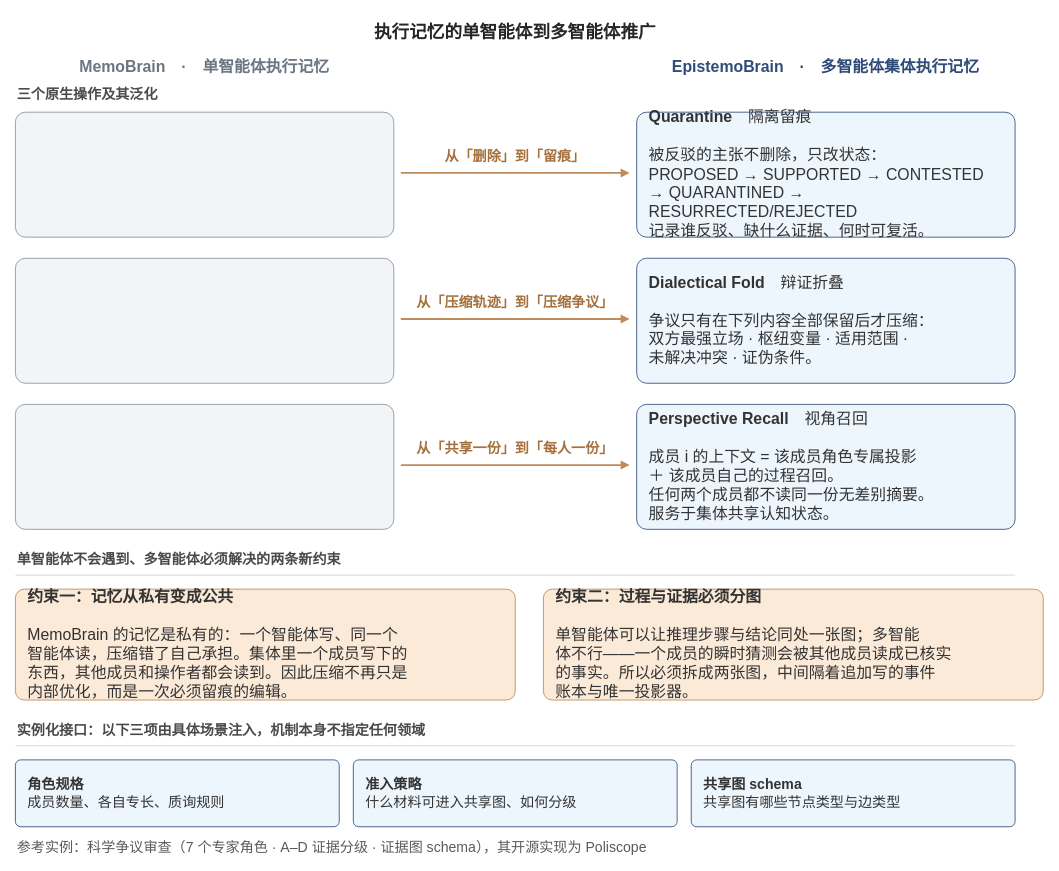
This 1059x871 diagram has some shape labels left out. Each missing label, with the centre of its shape:
Flush 剪枝 剪掉无效或失败的推理路径。 被剪掉的路不再出现。 服务于同一个智能体自己的下一步。: pixel 204 174
Fold 压缩 压缩已完成的子轨迹。 只要这一段走完了就压掉。 判据：轨迹是否完成。: pixel 204 320
Recall 召回 在固定 token 预算内重建高显著上下文。 一个智能体只读这一份。 产出：一份无差别上下文。: pixel 204 466
